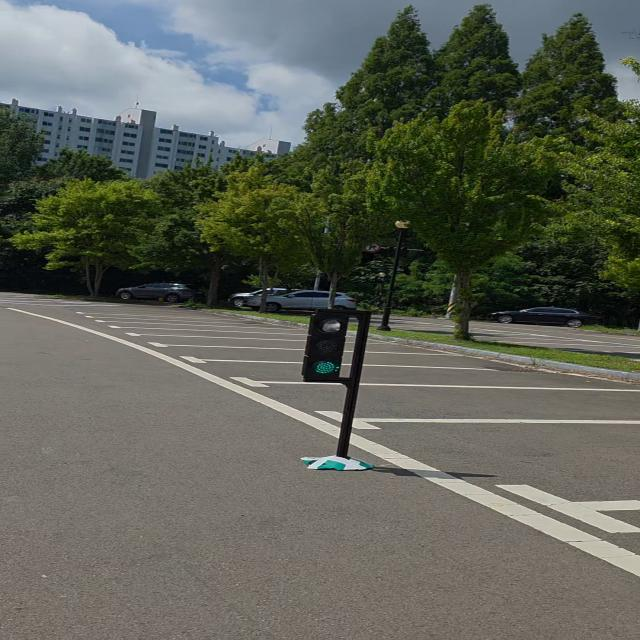green: (304, 308, 349, 382)
